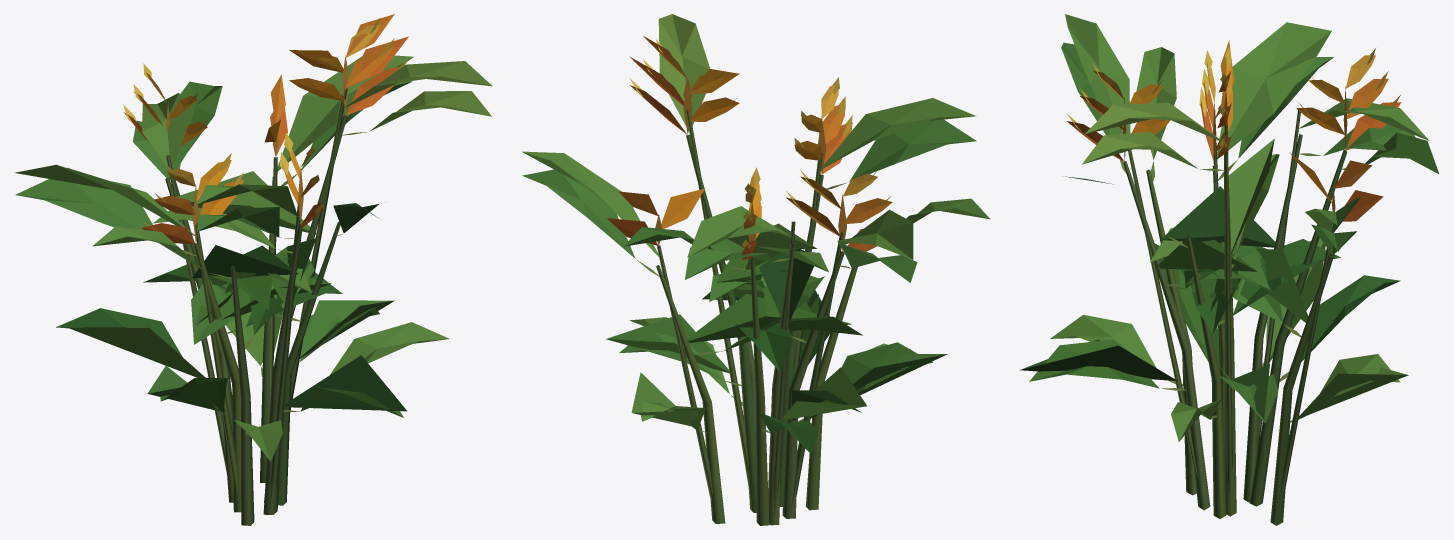
File: sg-heliconia.glb
The picture shows the model from 3 angles, left to right: view 1: azimuth 30°, elevation 25°; view 2: azimuth 150°, elevation 25°; view 3: azimuth 270°, elevation 25°; orthographic projection. The views are drawn at different scales.
Parts seen in each view (by area): view 1: lod1_leaves, lod0_leaves, lod0_stems, lod0_inflorescences, lod1_stems, lod1_inflorescences; view 2: lod1_leaves, lod0_leaves, lod0_stems, lod0_inflorescences, lod1_stems, lod1_inflorescences; view 3: lod1_leaves, lod0_leaves, lod0_stems, lod0_inflorescences, lod1_stems, lod1_inflorescences.
Boxes of the visible parts, left/top/right/bottom form: lod1_leaves: left=14, top=55, right=492, bottom=412; lod0_leaves: left=15, top=81, right=491, bottom=461; lod0_stems: left=165, top=115, right=366, bottom=525; lod0_inflorescences: left=123, top=17, right=408, bottom=244; lod1_stems: left=166, top=88, right=347, bottom=507; lod1_inflorescences: left=264, top=14, right=408, bottom=156; lod1_leaves: left=522, top=14, right=976, bottom=426; lod0_leaves: left=522, top=64, right=990, bottom=454; lod0_stems: left=637, top=134, right=857, bottom=525; lod0_inflorescences: left=629, top=39, right=892, bottom=259; lod1_stems: left=657, top=109, right=843, bottom=517; lod1_inflorescences: left=607, top=36, right=739, bottom=245; lod1_leaves: left=1020, top=14, right=1429, bottom=419; lod0_leaves: left=1029, top=42, right=1438, bottom=441; lod0_stems: left=1119, top=134, right=1346, bottom=525; lod0_inflorescences: left=1066, top=47, right=1401, bottom=161; lod1_stems: left=1128, top=110, right=1329, bottom=504; lod1_inflorescences: left=1217, top=40, right=1383, bottom=221.
Bounding box in the file's own units: 1.65 × 1.8 × 1.38.
